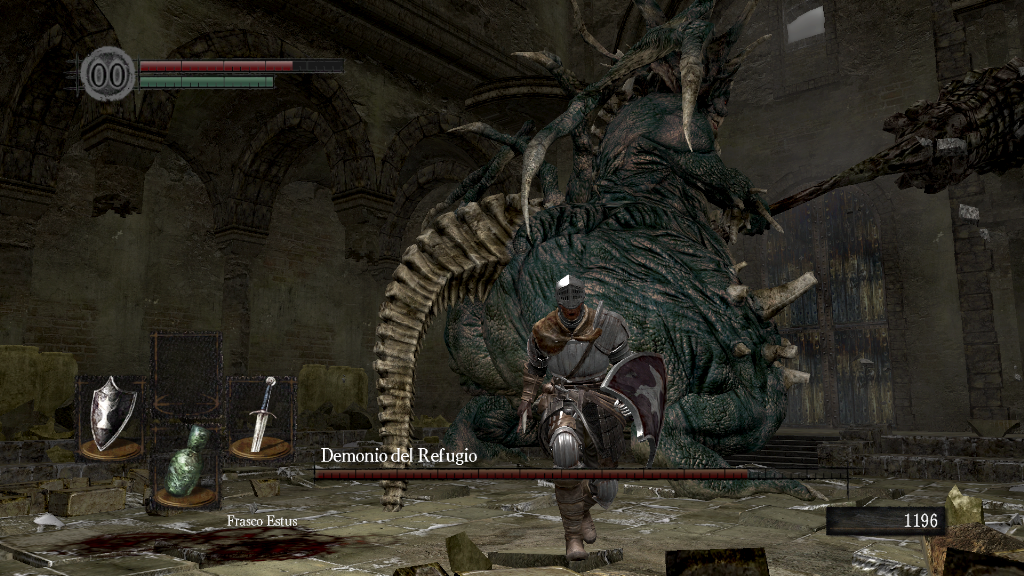asylumDemon: (375, 1, 1024, 516)
bossHP: (314, 469, 847, 479)
health: (138, 58, 343, 71)
humanity: (80, 45, 136, 102)
player: (517, 274, 669, 561)
souls: (825, 506, 945, 536)
stamina: (138, 74, 274, 88)
